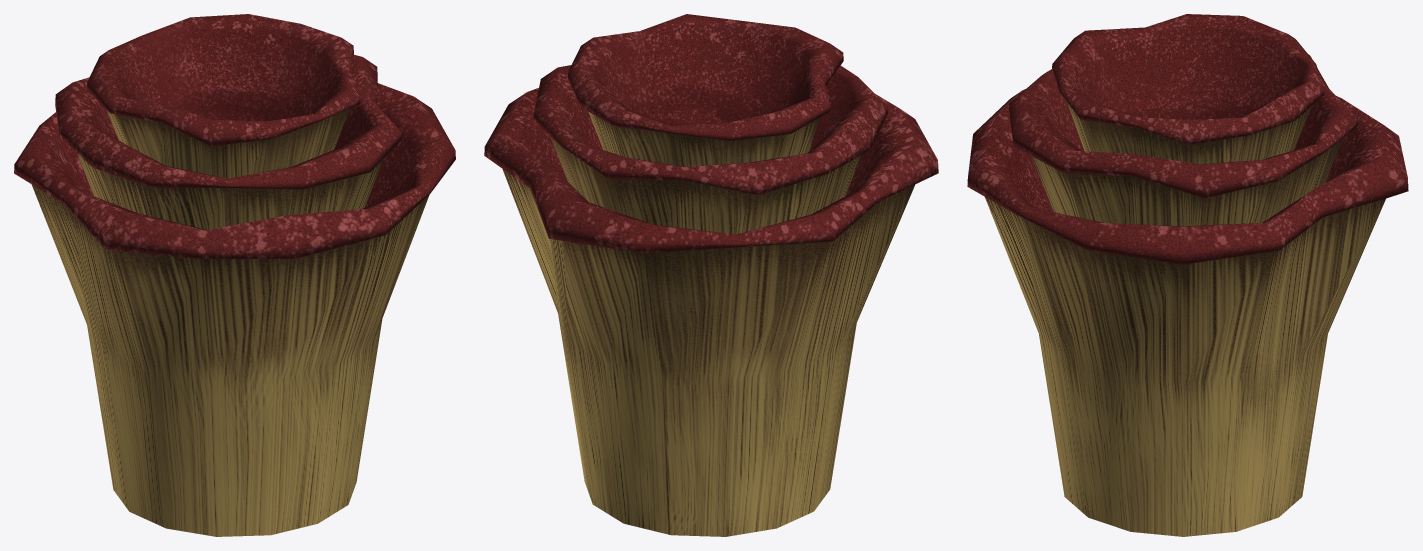
File: Mushroom_10.fbx
3 views of the same model, side by side, from view 1: azimuth 30°, elevation 25°; view 2: azimuth 150°, elevation 25°; view 3: azimuth 270°, elevation 25° (orthographic).
Visible parts, largest first — view 1: Mushroom_5; view 2: Mushroom_5; view 3: Mushroom_5.
Part boxes in pixels (bbox=[...]): Mushroom_5: bbox=[14, 14, 455, 536]; Mushroom_5: bbox=[484, 14, 938, 536]; Mushroom_5: bbox=[967, 14, 1408, 536].
Size of the model in its own units: 0.2489 by 0.2654 by 0.2524.
1 material, 1 textured.
